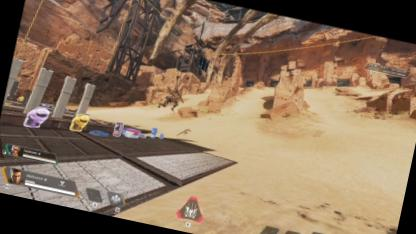Target: (158, 85, 182, 112)
